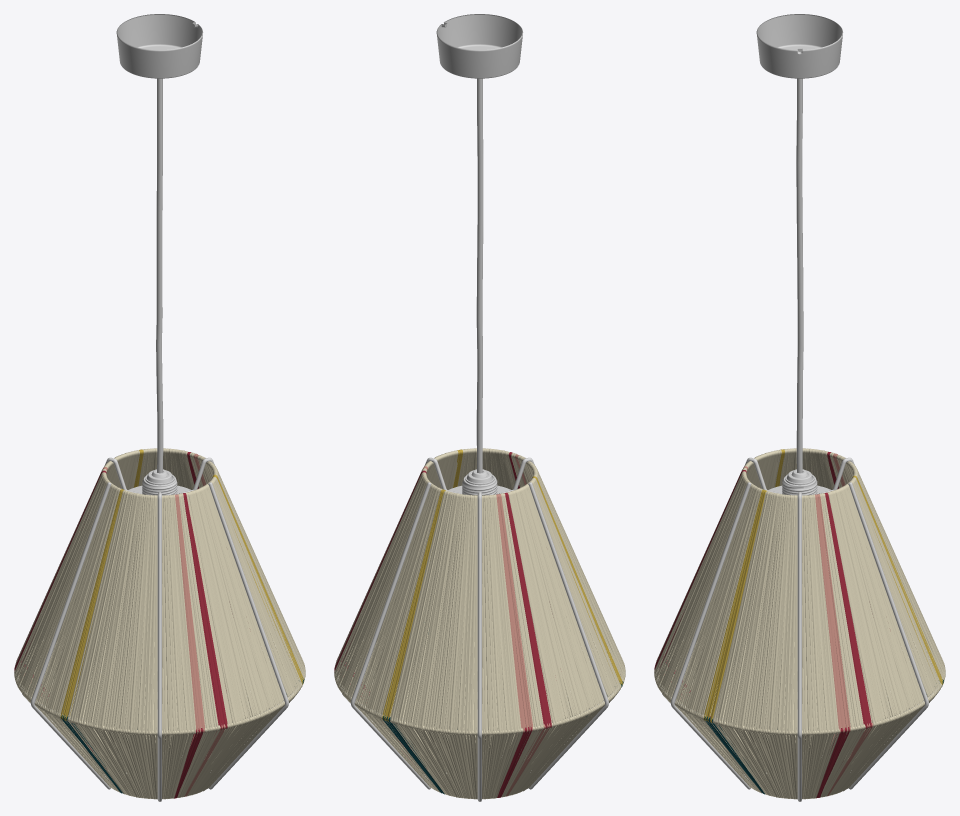
Rendered from LampWeraJaneFrameA006.fbx.
3 views of the same model, side by side, from view 1: azimuth 30°, elevation 25°; view 2: azimuth 150°, elevation 25°; view 3: azimuth 270°, elevation 25° (orthographic).
Parts seen in each view (by area): view 1: LampWerajaneFrameA006; view 2: LampWerajaneFrameA006; view 3: LampWerajaneFrameA006.
Part boxes in pixels (x1,y1,x2,y2): LampWerajaneFrameA006: (14, 14, 305, 801); LampWerajaneFrameA006: (334, 14, 625, 801); LampWerajaneFrameA006: (654, 14, 945, 801).
Size of the model in its own units: 35.49 by 97.97 by 34.78.
